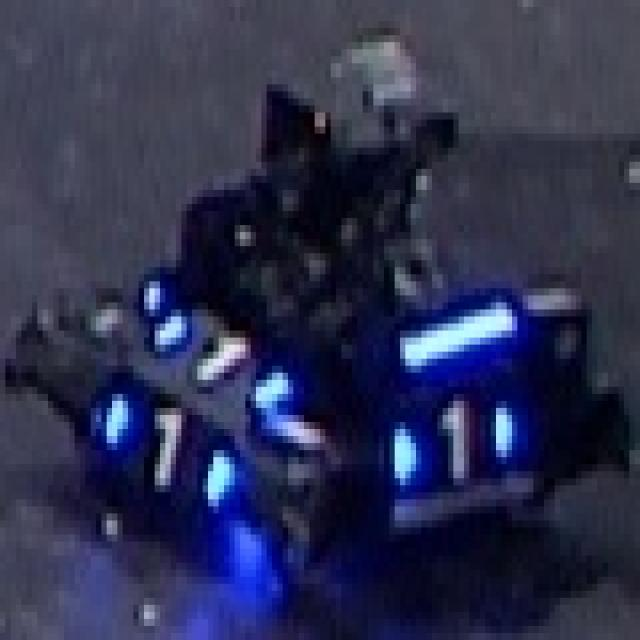B1: (144, 295, 288, 415), (96, 387, 229, 506), (389, 394, 512, 492)
